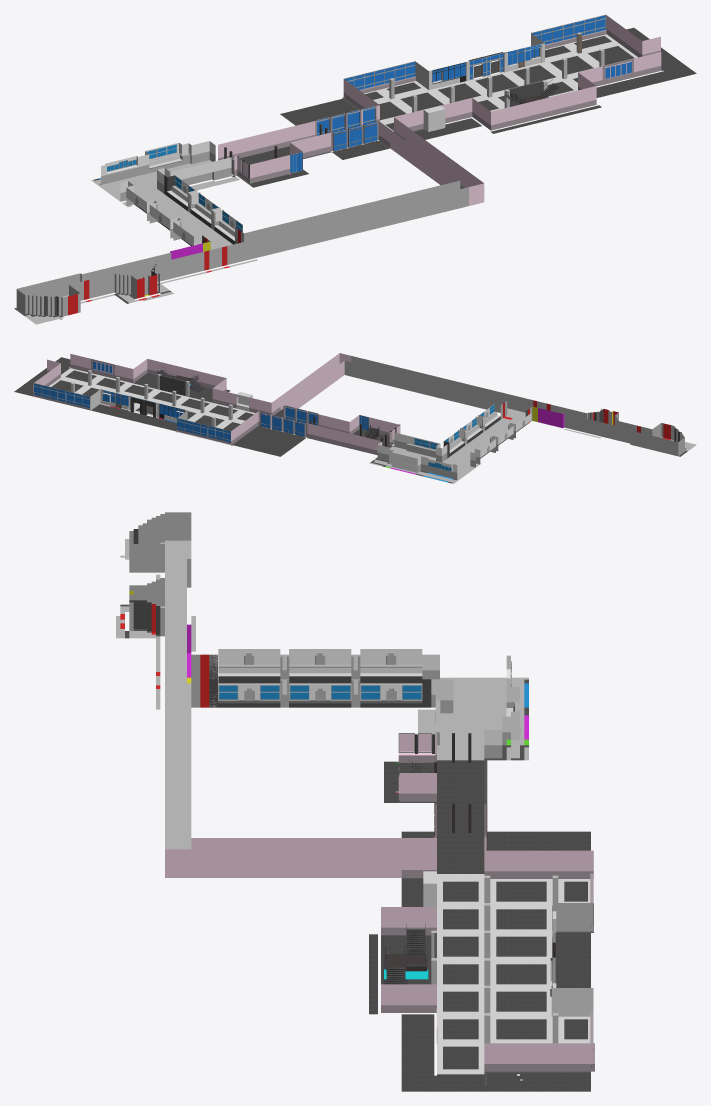
File: MojFer.fbx
The picture shows the model from 3 angles, top to bottom: view 1: azimuth 30°, elevation 25°; view 2: azimuth 150°, elevation 25°; view 3: azimuth 270°, elevation 25°; orthographic projection. The views are drawn at different scales.
Parts seen in each view (by area): view 1: FER2dio, Pod, ZidIzaFEREkrana, ZidoviUlaz, FER2dio.002, Aleja, ZidLiftAZgrada, ZidoviB4, ProzorStupovi, Stupovi, Skriptarnica, PportaPrintaona (+3 smaller); view 2: FER2dio, Pod, ZidIzaFEREkrana, ZidoviUlaz, FER2dio.002, ZidLiftAZgrada, Aleja, ZidoviB4, ProzorStupovi, Stupovi, PportaPrintaona, EkranGlavni (+4 smaller); view 3: Pod, FER2dio, Aleja, ZidoviB4, ZidoviUlaz, ZidIzaFEREkrana, FER2dio.002, Stupovi, Stepnice, PportaPrintaona, Skriptarnica, ZidDoLifta (+1 smaller).
Boxes of the visible parts, x1,y1,x2,y2 form: FER2dio: (14, 160, 468, 324); Pod: (231, 27, 696, 188); ZidIzaFEREkrana: (378, 52, 661, 147); ZidoviUlaz: (343, 14, 660, 121); FER2dio.002: (101, 141, 231, 193); Aleja: (120, 175, 242, 246); ZidLiftAZgrada: (218, 121, 330, 183); ZidoviB4: (390, 126, 484, 205); ProzorStupovi: (315, 105, 378, 151); Stupovi: (224, 32, 604, 170); Skriptarnica: (415, 61, 469, 89); PportaPrintaona: (503, 33, 544, 72); FER2dio: (344, 356, 696, 483); Pod: (14, 357, 394, 456); ZidIzaFEREkrana: (70, 354, 291, 416); ZidoviUlaz: (33, 359, 260, 445); FER2dio.002: (377, 432, 457, 479); ZidLiftAZgrada: (307, 414, 398, 454); Aleja: (443, 404, 531, 467); ZidoviB4: (280, 353, 351, 409); ProzorStupovi: (260, 405, 318, 437); Stupovi: (71, 370, 386, 446); PportaPrintaona: (90, 389, 131, 410); EkranGlavni: (157, 374, 189, 396); Pod: (369, 760, 593, 1091); FER2dio: (116, 512, 528, 849); Aleja: (209, 649, 439, 707); ZidoviB4: (165, 838, 401, 877); ZidoviUlaz: (484, 850, 594, 1071); ZidIzaFEREkrana: (381, 838, 437, 1044); FER2dio.002: (431, 655, 520, 758); Stupovi: (434, 733, 558, 1043); Stepnice: (385, 760, 430, 984); PportaPrintaona: (549, 958, 593, 1016); Skriptarnica: (551, 903, 593, 946); ZidDoLifta: (398, 733, 436, 762).
Size of the model in its own units: 13260 by 371 by 4855.
